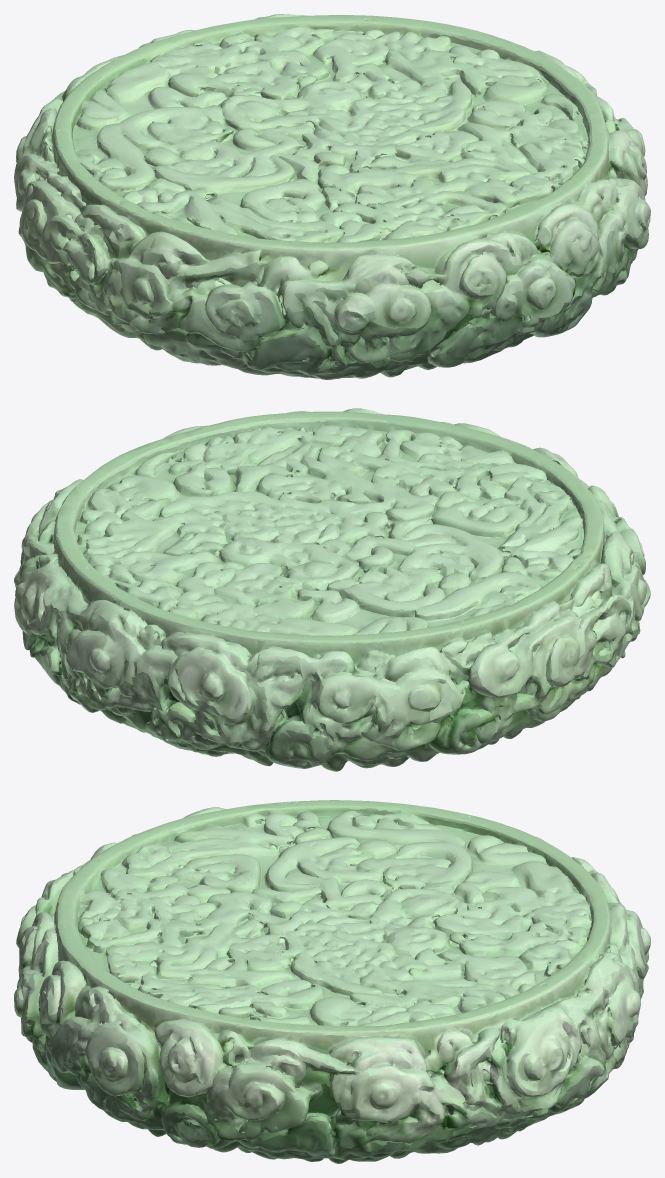
File: cloud-platform.glb
The picture shows the model from 3 angles, top to bottom: view 1: azimuth 30°, elevation 25°; view 2: azimuth 150°, elevation 25°; view 3: azimuth 270°, elevation 25°; orthographic projection.
Parts seen in each view (by area): view 1: geometry_0; view 2: geometry_0; view 3: geometry_0.
Boxes of the visible parts, x1,y1,x2,y2 form: geometry_0: (14,14,650,379); geometry_0: (14,408,650,771); geometry_0: (14,800,650,1163).
Bounding box in the file's own units: 0.12 × 0.029 × 0.1199.
Materials: 1 (1 with a texture image).
